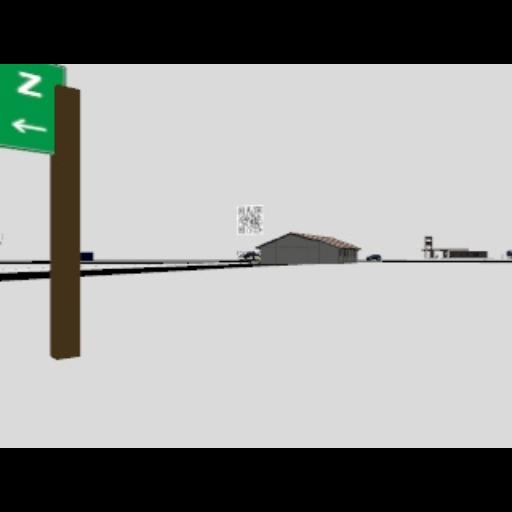Left: (12, 117, 48, 135)
Z: (16, 70, 44, 98)
